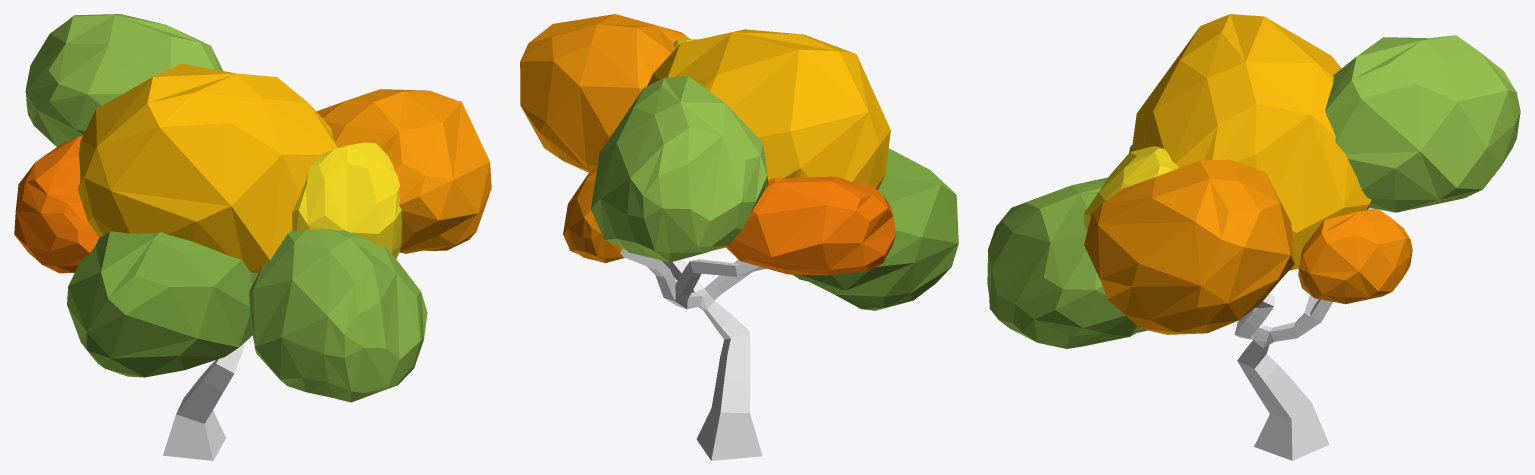
Rendered from treeLevel2fbx.fbx.
3 views of the same model, side by side, from view 1: azimuth 30°, elevation 25°; view 2: azimuth 150°, elevation 25°; view 3: azimuth 270°, elevation 25° (orthographic). The views are drawn at different scales.
Parts seen in each view (by area): view 1: leaves.014, trunk 2; view 2: leaves.014, trunk 2; view 3: leaves.014, trunk 2.
Part boxes in pixels (x1,y1,x2,y2): leaves.014: [14, 14, 491, 402]; trunk 2: [163, 342, 245, 460]; leaves.014: [520, 14, 958, 310]; trunk 2: [620, 248, 793, 460]; leaves.014: [987, 14, 1520, 348]; trunk 2: [1234, 207, 1375, 460].
Size of the model in its own units: 1168 by 1074 by 1290.
1 material, 1 textured.
